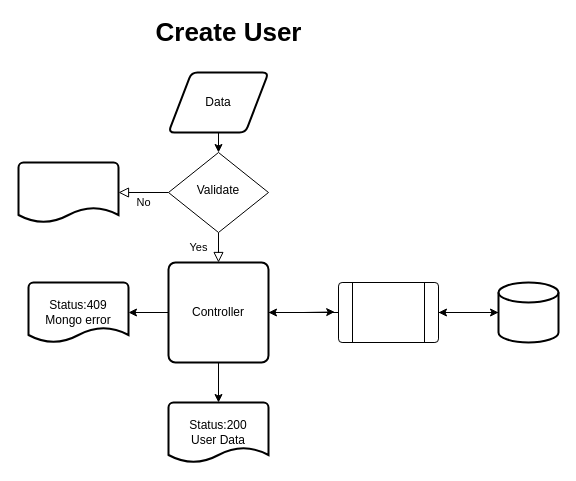
Image size: 576x481. Some labels were removed from this diagram. The centre of each missing label's shape, as x and y in pixels:
Service: the point at 388,312
Status:400 Validate error: the point at 68,192
